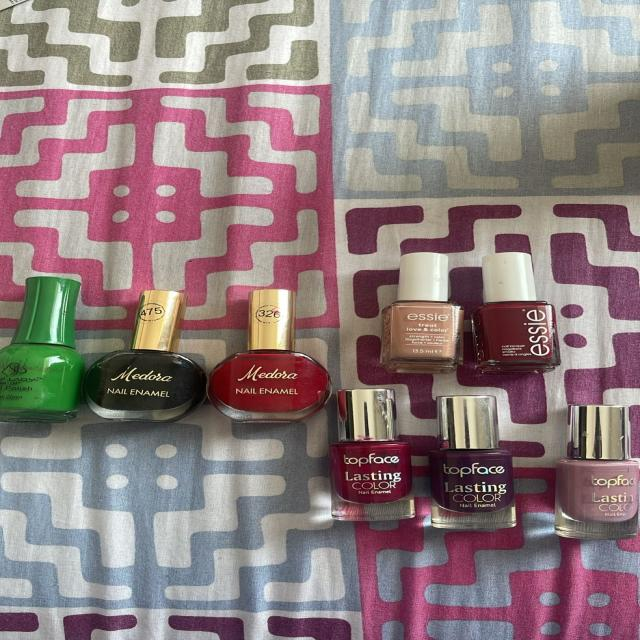nail polish: (205, 284, 337, 425), (84, 281, 209, 429), (419, 388, 542, 534), (460, 248, 574, 374), (0, 266, 86, 430), (548, 397, 640, 546), (321, 379, 419, 513), (374, 249, 471, 366)
